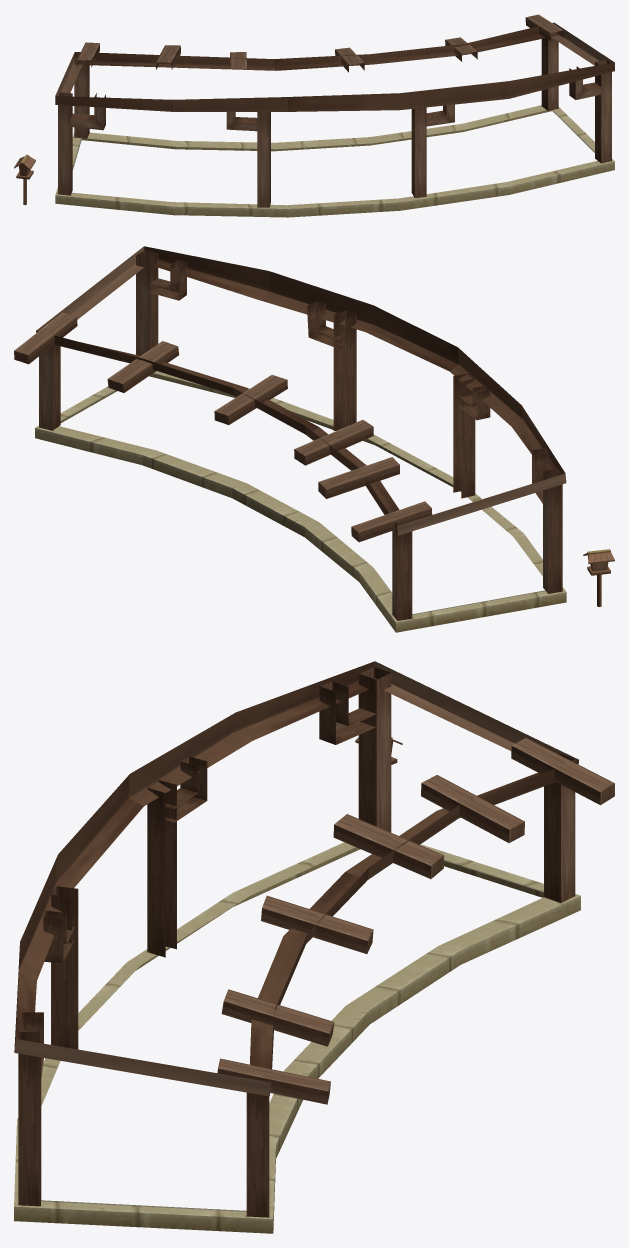
File: Area_09_43.fbx
3 views of the same model, one above another, from view 1: azimuth 30°, elevation 25°; view 2: azimuth 150°, elevation 25°; view 3: azimuth 270°, elevation 25° (orthographic). The views are drawn at different scales.
Visible parts, largest first — view 1: Area_09_43; view 2: Area_09_43; view 3: Area_09_43.
Part boxes in pixels (<box>): Area_09_43: <box>14,14,614,217</box>; Area_09_43: <box>14,246,614,632</box>; Area_09_43: <box>14,661,614,1233</box>.
Bounding box in the file's own units: 2607 × 583 × 1557.
